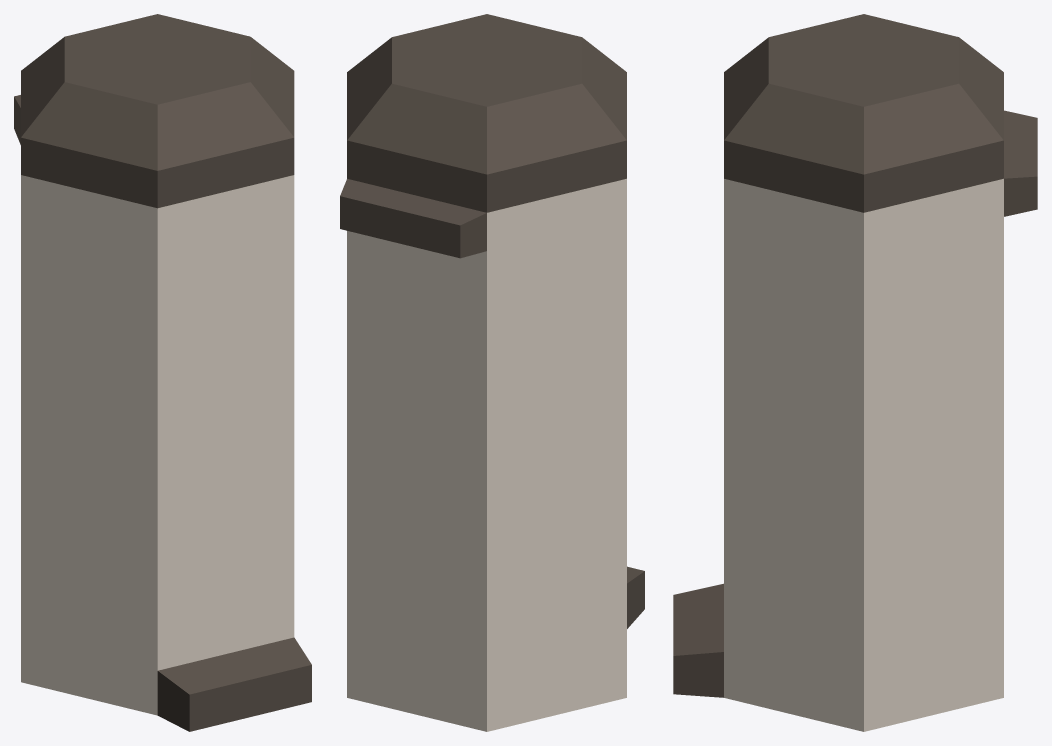
The model's file is kitTrashcan.glb.
3 views of the same model, side by side, from view 1: azimuth 30°, elevation 25°; view 2: azimuth 150°, elevation 25°; view 3: azimuth 270°, elevation 25° (orthographic). The views are drawn at different scales.
Visible parts, largest first — view 1: kitTrashcan_metal, kitTrashcan_metalDark; view 2: kitTrashcan_metal, kitTrashcan_metalDark; view 3: kitTrashcan_metal, kitTrashcan_metalDark.
Boxes of the visible parts, left/top/right/bottom form: kitTrashcan_metal: left=21, top=175, right=294, bottom=715; kitTrashcan_metalDark: left=14, top=14, right=311, bottom=731; kitTrashcan_metal: left=347, top=178, right=626, bottom=731; kitTrashcan_metalDark: left=340, top=14, right=644, bottom=628; kitTrashcan_metal: left=724, top=178, right=1003, bottom=731; kitTrashcan_metalDark: left=673, top=14, right=1037, bottom=697.
Size of the model in its own units: 0.4154 by 0.8557 by 0.4682.
